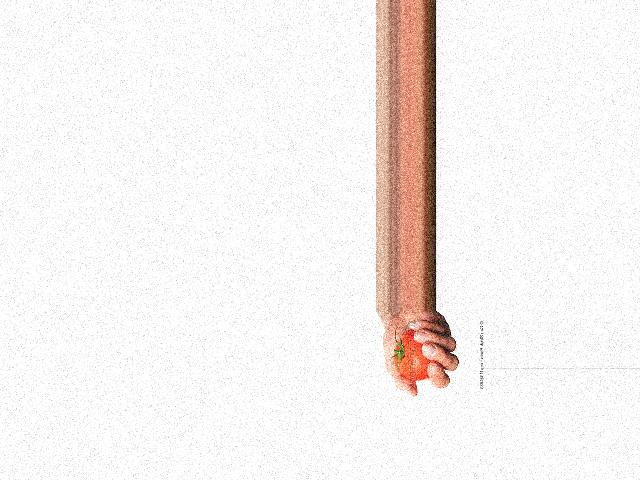tomato: (394, 330, 429, 381)
